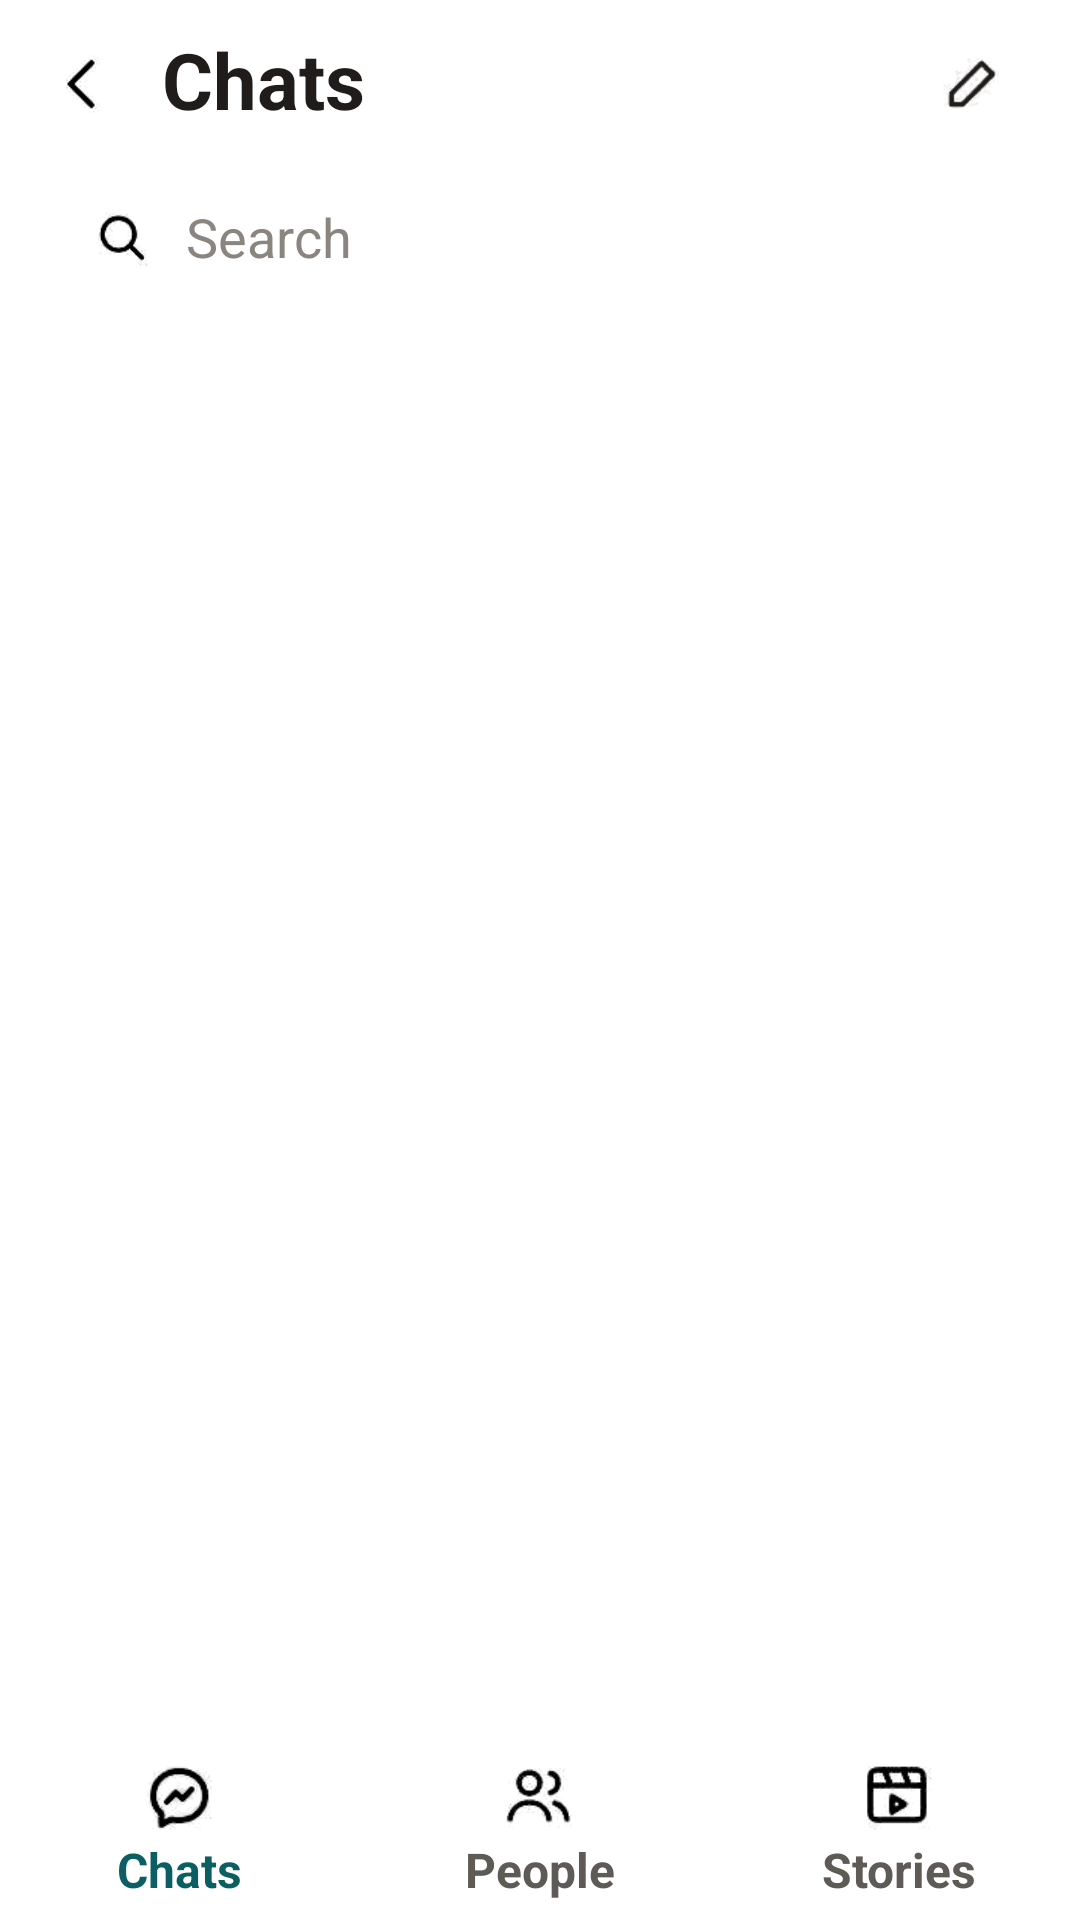

Where to tap for icons on this 1080w x 1920h app screen, as [x,y]:
Back: [80,84]
New message: [972,84]
